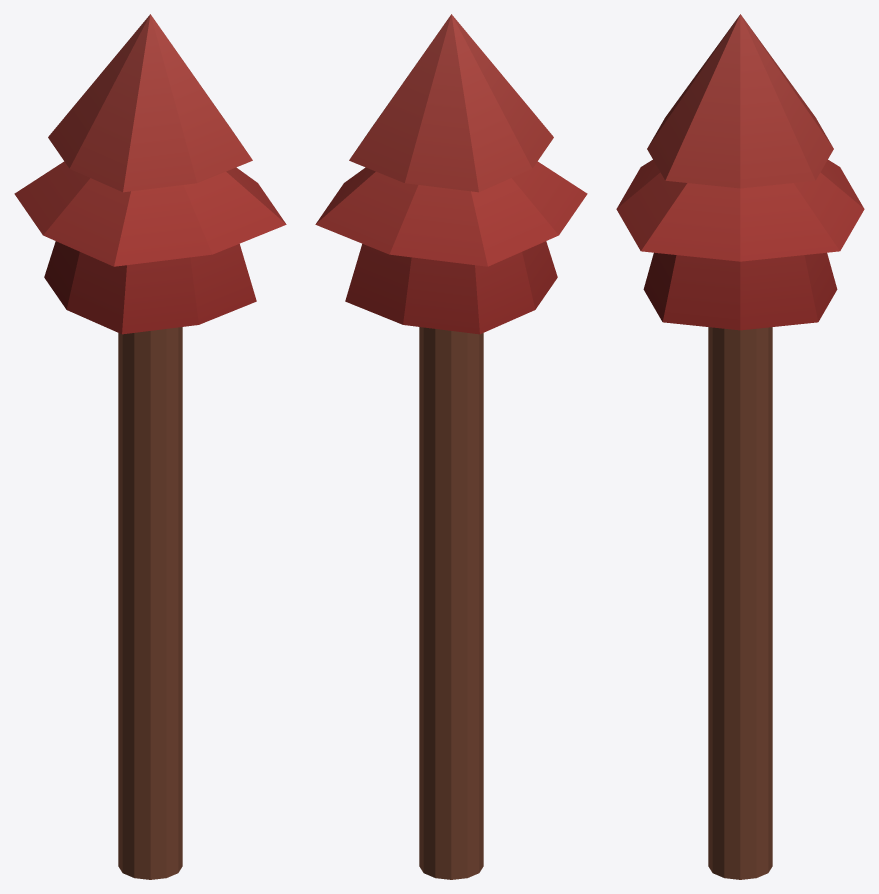
File: Tree_20_gradient_red_vc.fbx
The picture shows the model from 3 angles, left to right: view 1: azimuth 30°, elevation 25°; view 2: azimuth 150°, elevation 25°; view 3: azimuth 270°, elevation 25°; orthographic projection.
Parts seen in each view (by area): view 1: Tree_20_gradient_red_vc; view 2: Tree_20_gradient_red_vc; view 3: Tree_20_gradient_red_vc.
Boxes of the visible parts, x1,y1,x2,y2 form: Tree_20_gradient_red_vc: (14,14,286,879); Tree_20_gradient_red_vc: (315,14,587,879); Tree_20_gradient_red_vc: (616,14,864,879).
Bounding box in the file's own units: 85.54 × 324 × 85.54.
